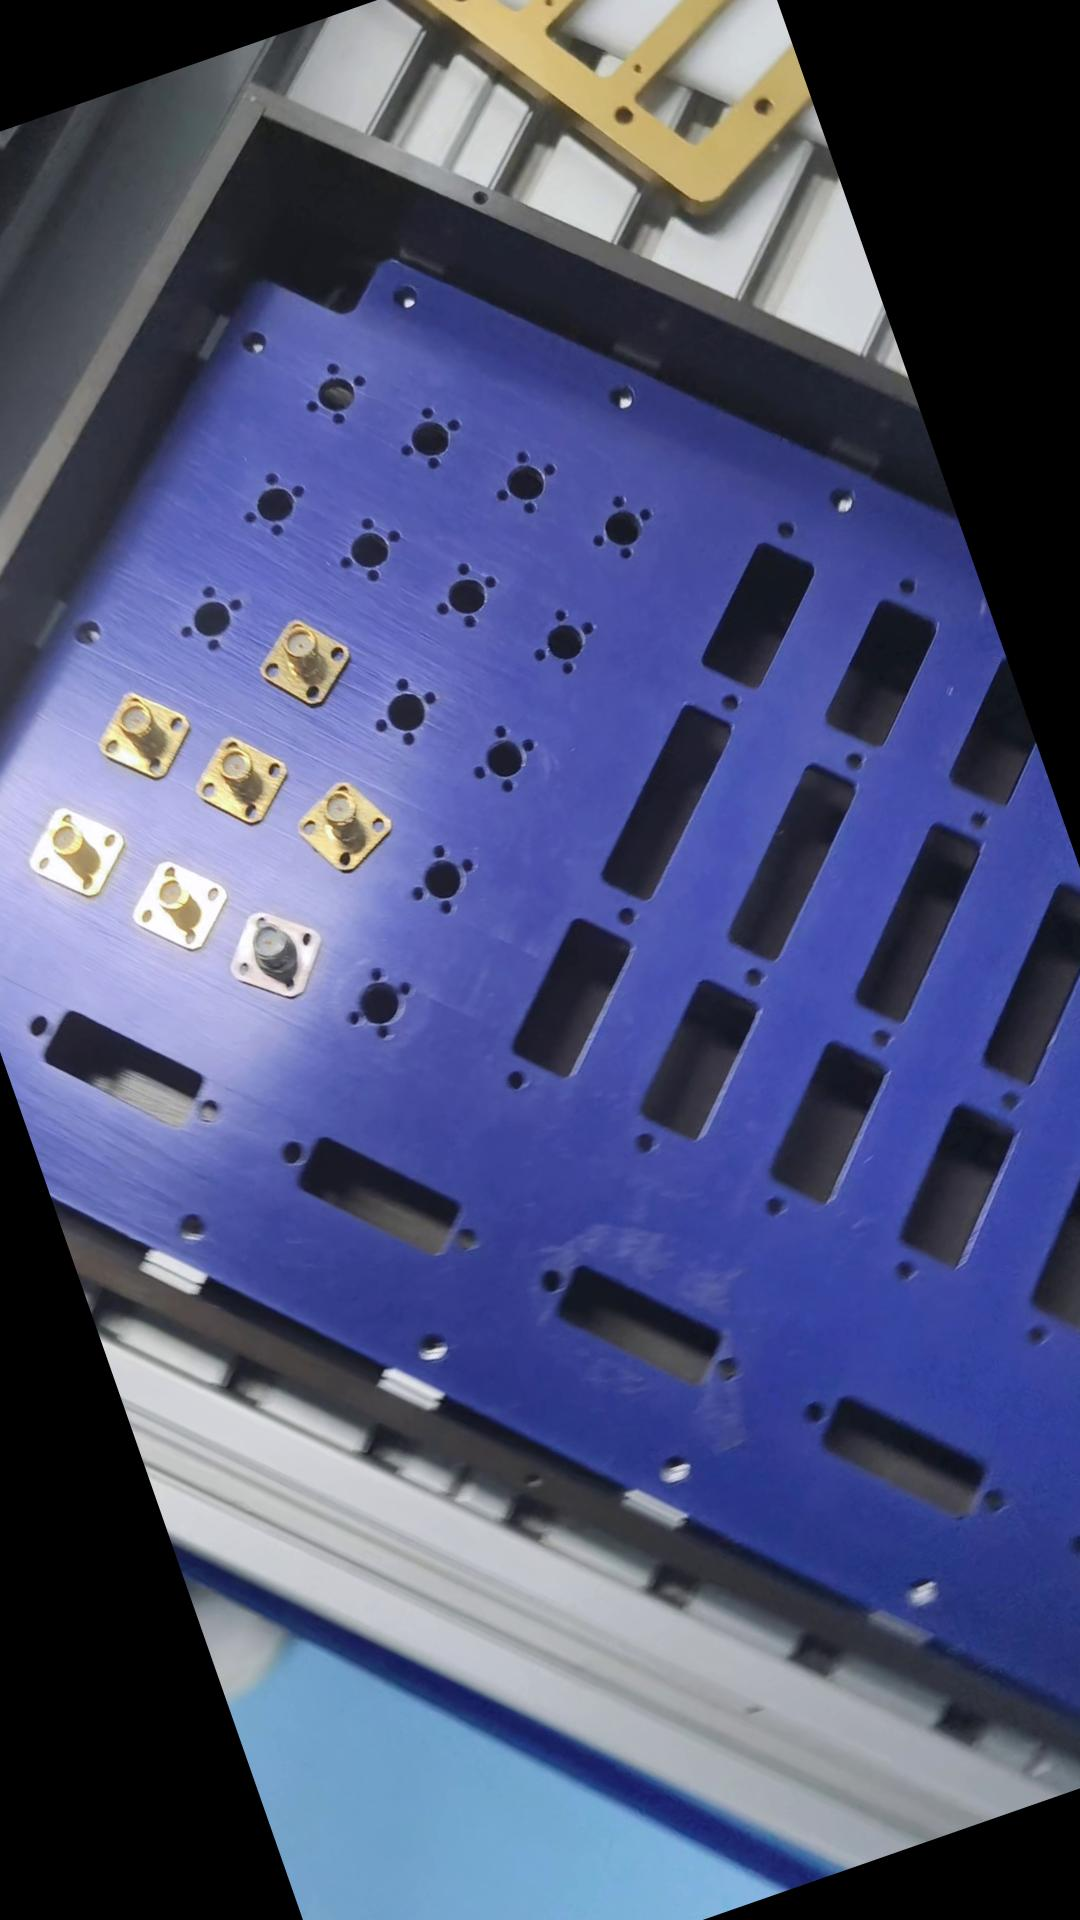SMA: (15, 789, 140, 913), (215, 887, 336, 1007), (187, 717, 306, 837), (123, 844, 243, 960), (86, 676, 202, 793), (289, 767, 405, 880), (249, 603, 363, 713)
